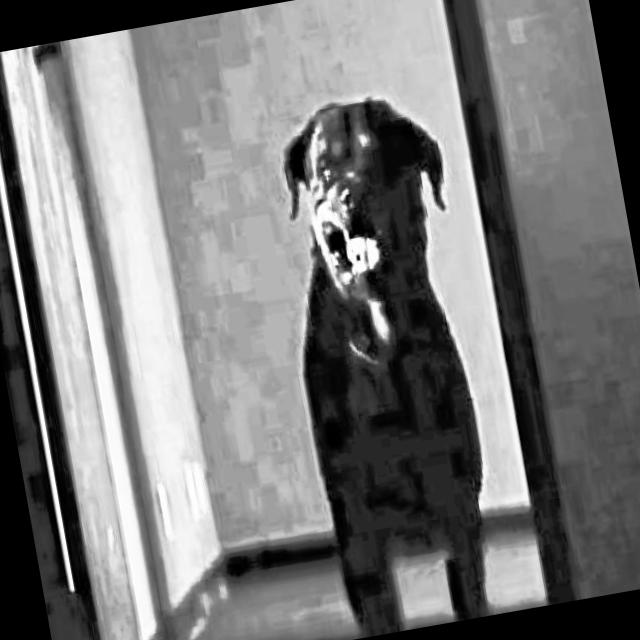Dog: (253, 71, 532, 640)
